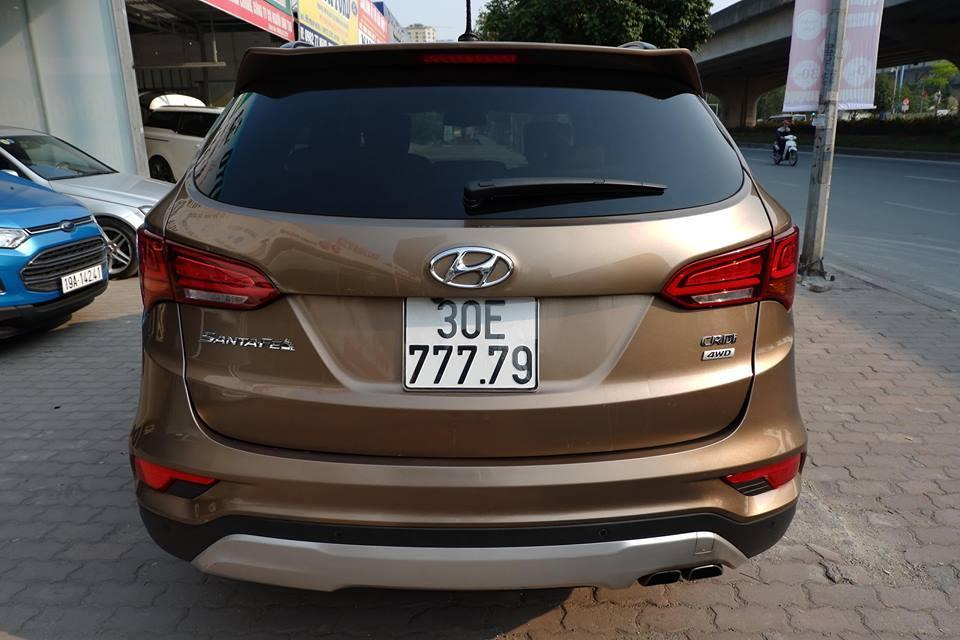numplate: (402, 290, 538, 390)
